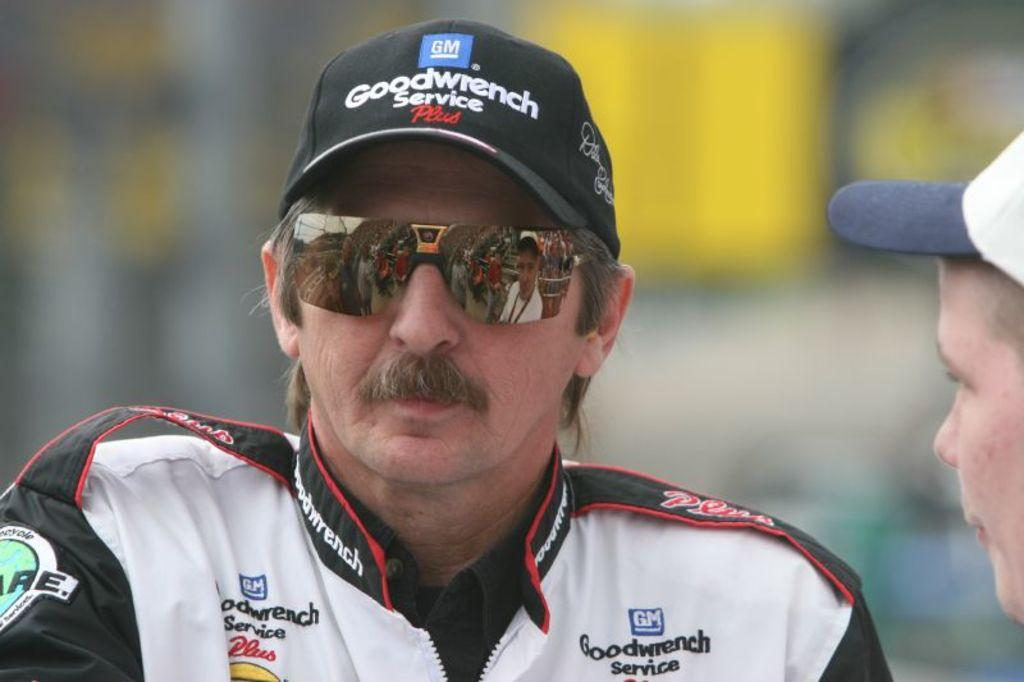Hat: (282, 13, 622, 259), (825, 126, 1022, 287)
